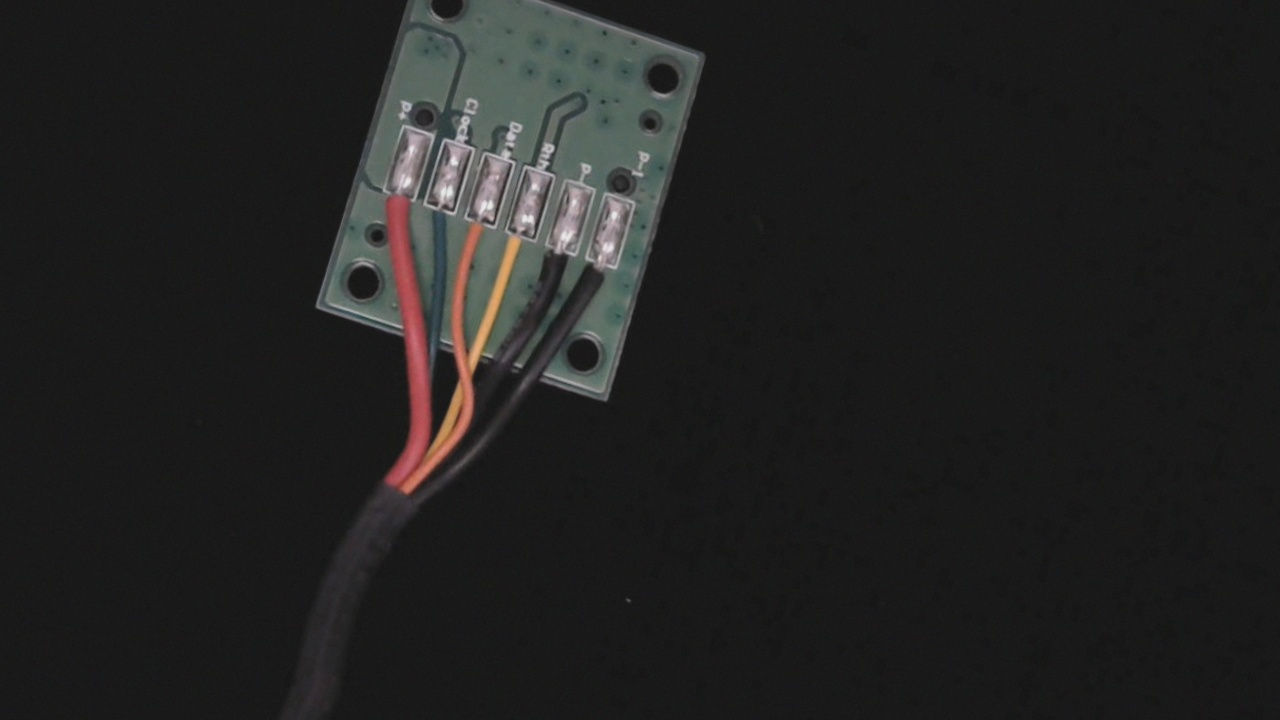Black: (521, 228, 583, 317)
Black1: (566, 242, 624, 324)
Green: (409, 184, 464, 260)
Orange: (444, 198, 502, 286)
Red: (367, 169, 425, 251)
Yellow: (483, 213, 544, 304)
